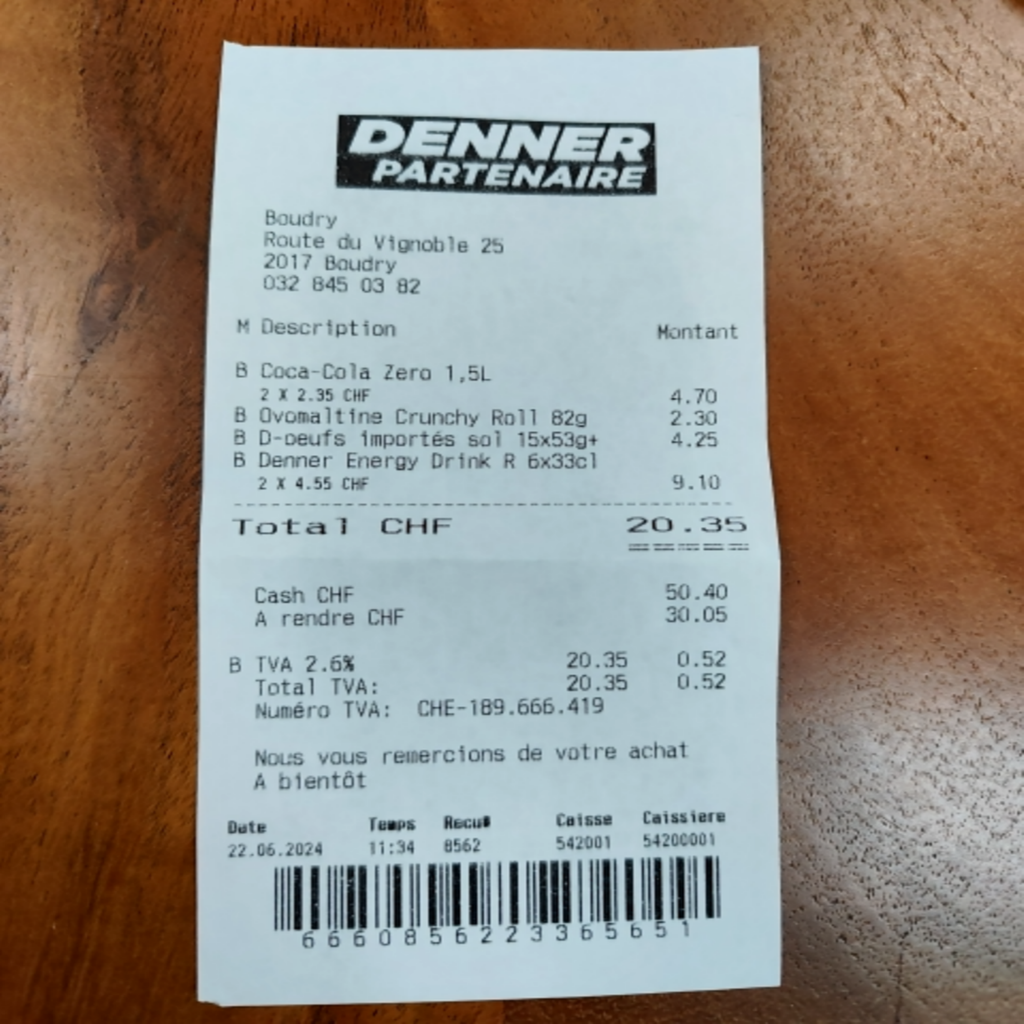recipt: (195, 38, 783, 1005)
